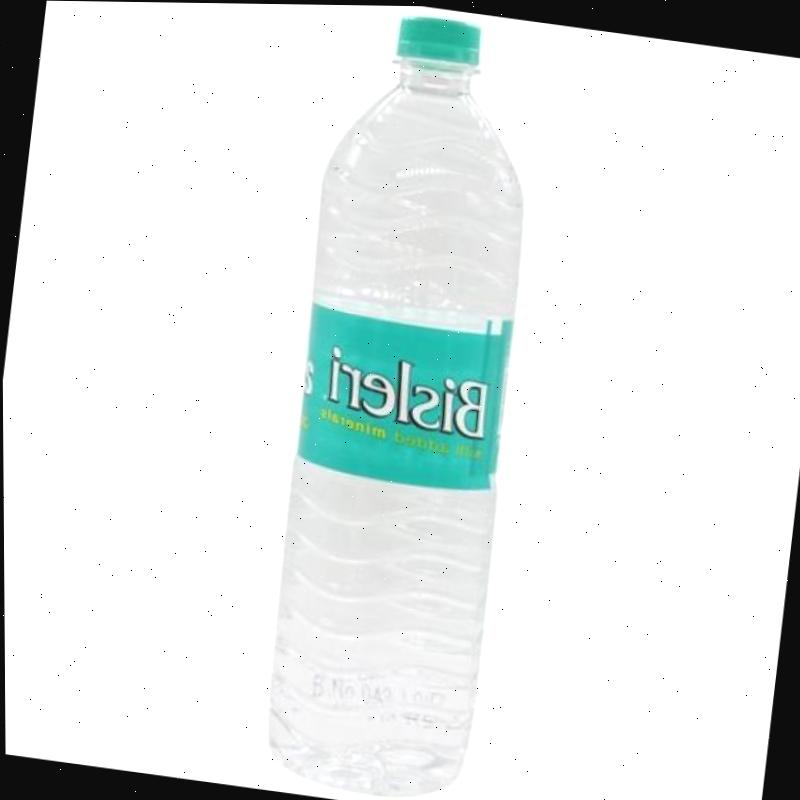botella: (247, 5, 553, 800)
